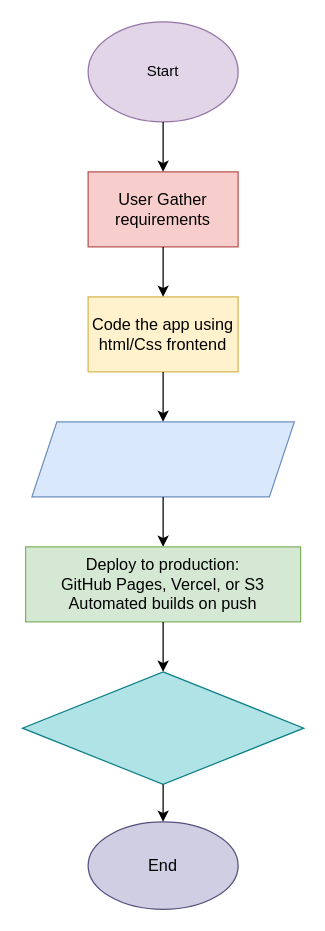
This 325x931 diagram has some shape labels left out. The box of each missing label's shape, as (x1, y1, x2, y2) in pixels:
Ensure everything works: Functional testing & Image load checks: (31, 421, 294, 497)
Monitor Usage: Uptime checks Book Popularity stats Improve UI/UX: (21, 671, 304, 784)
